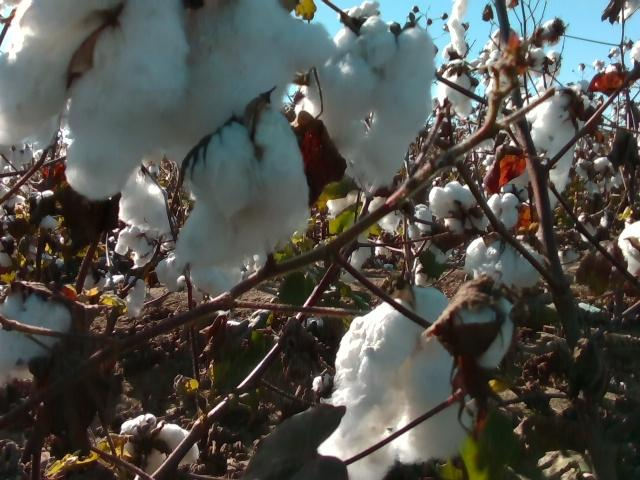cotton_ready: (0, 0, 186, 198), (163, 0, 330, 162), (318, 289, 457, 479), (307, 14, 438, 182), (179, 111, 312, 267), (520, 89, 586, 203), (0, 291, 79, 370), (121, 416, 199, 480), (158, 248, 266, 293), (455, 294, 518, 369), (117, 162, 184, 230), (430, 182, 492, 238), (463, 238, 519, 286), (479, 34, 521, 93), (368, 197, 429, 236), (438, 60, 480, 113), (116, 224, 164, 269), (99, 275, 149, 316), (415, 240, 454, 286), (341, 230, 374, 284), (327, 186, 368, 221), (484, 192, 520, 231), (515, 242, 542, 288), (619, 221, 640, 278), (446, 0, 467, 57)
